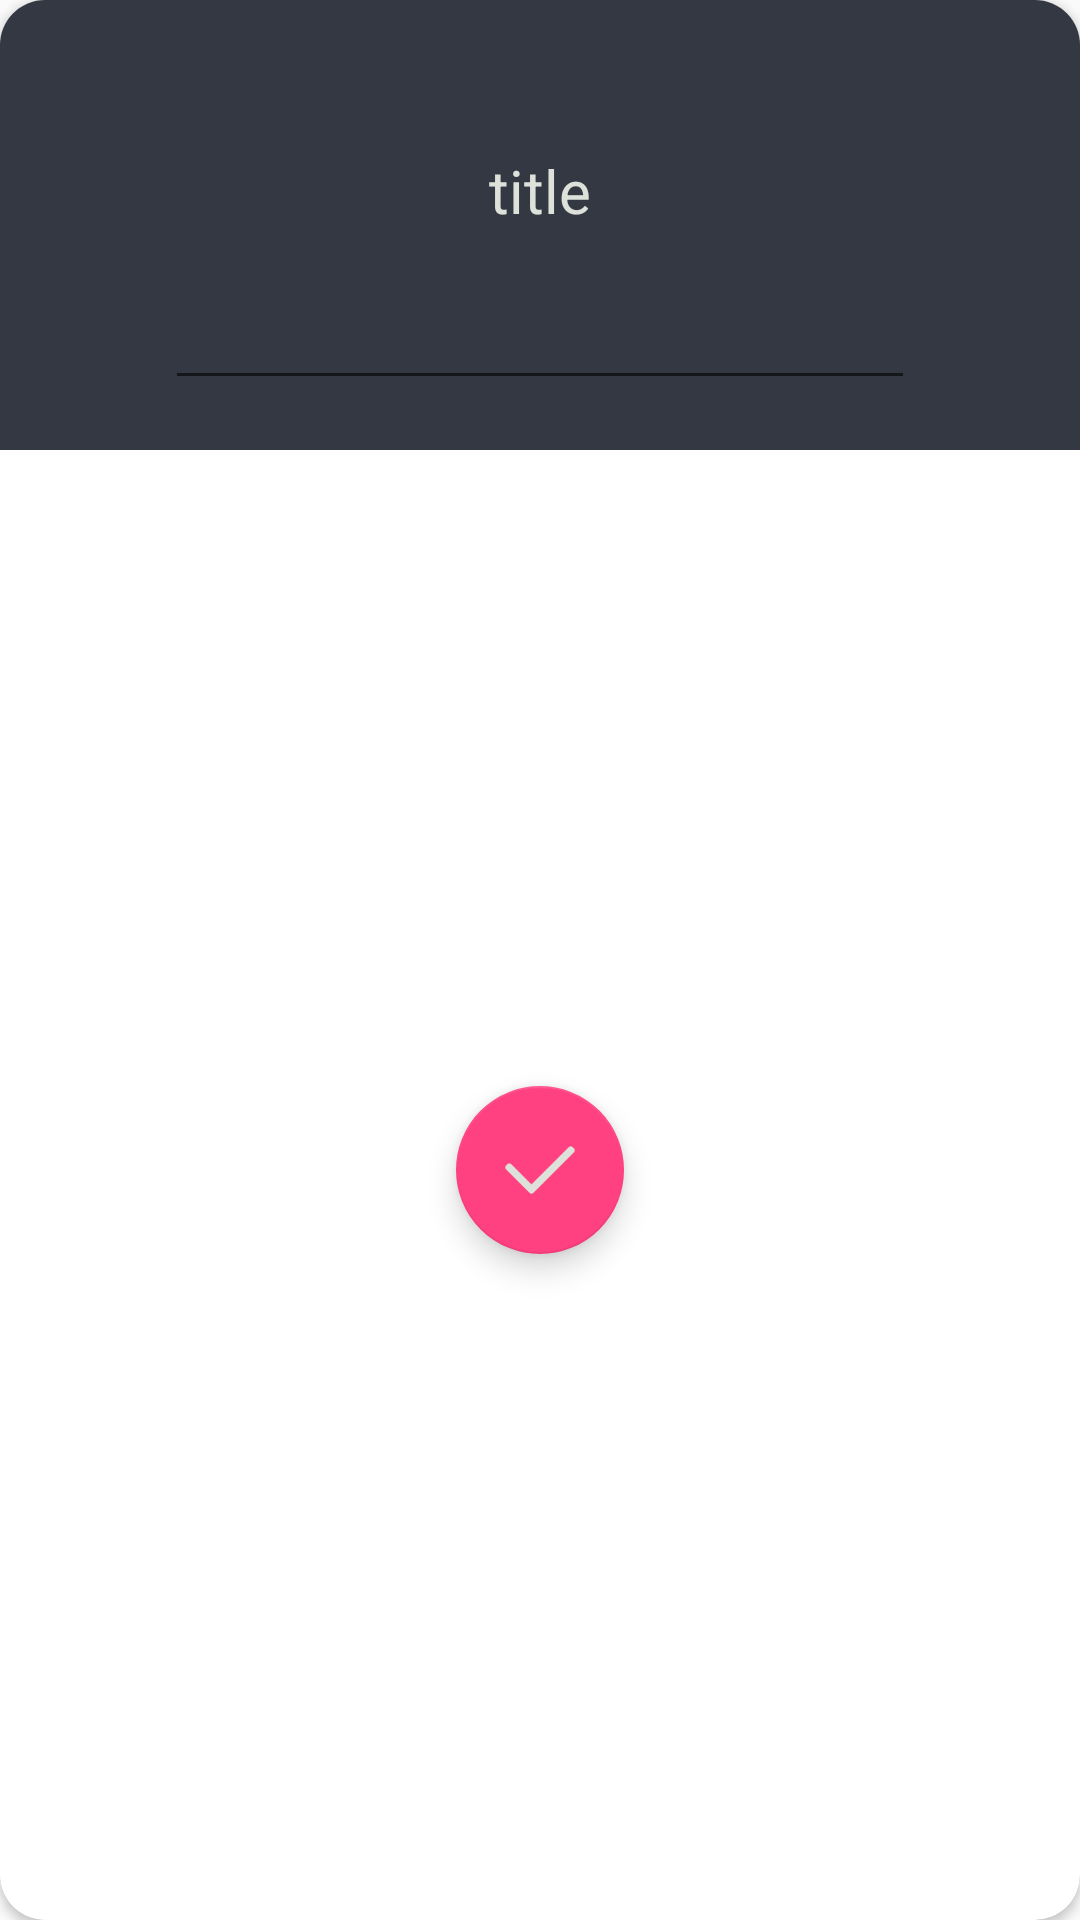

Icons on this 1080×1920 Android screen, each with its box as (x1, y1, x2, y2):
dui: (456, 1086, 624, 1254)
